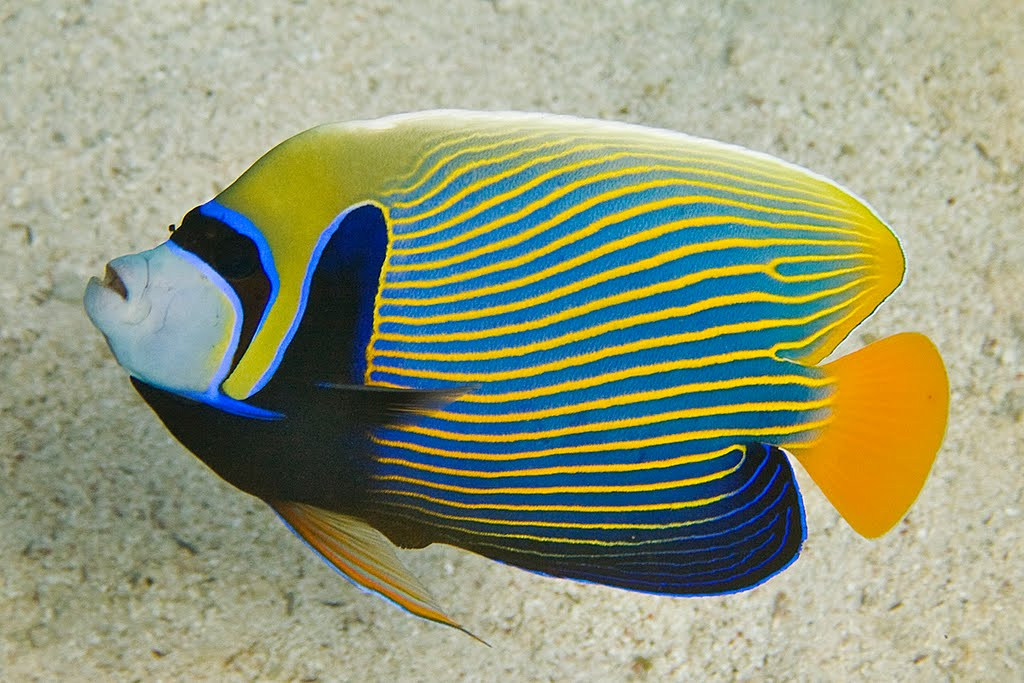Pomacanthus_imperator: (61, 93, 966, 650)
